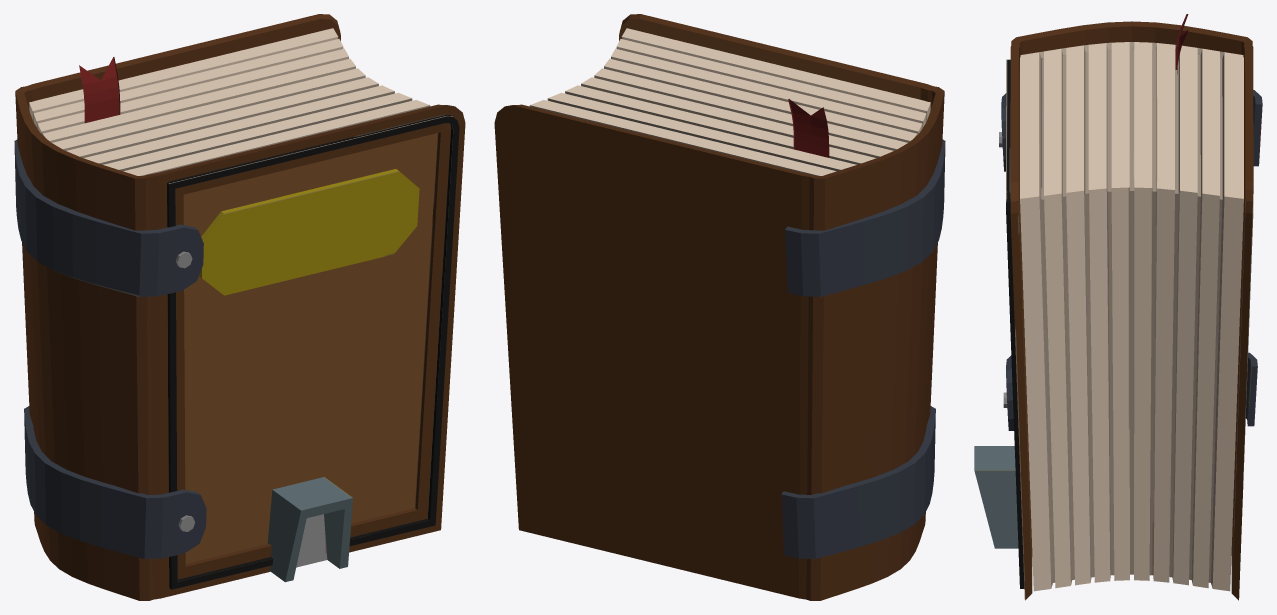
3 renders of one model, left to right at view 1: azimuth 30°, elevation 25°; view 2: azimuth 150°, elevation 25°; view 3: azimuth 270°, elevation 25°, orthographic. The views are drawn at different scales.
Parts seen in each view (by area): view 1: 立方体.035; view 2: 立方体.035; view 3: 立方体.035.
Part boxes in pixels (<box>): 立方体.035: <box>14,14,465,600</box>; 立方体.035: <box>494,14,945,600</box>; 立方体.035: <box>974,14,1262,600</box>.
Size of the model in its own units: 266 by 326 by 187.
Materials: 1 (1 with a texture image).
